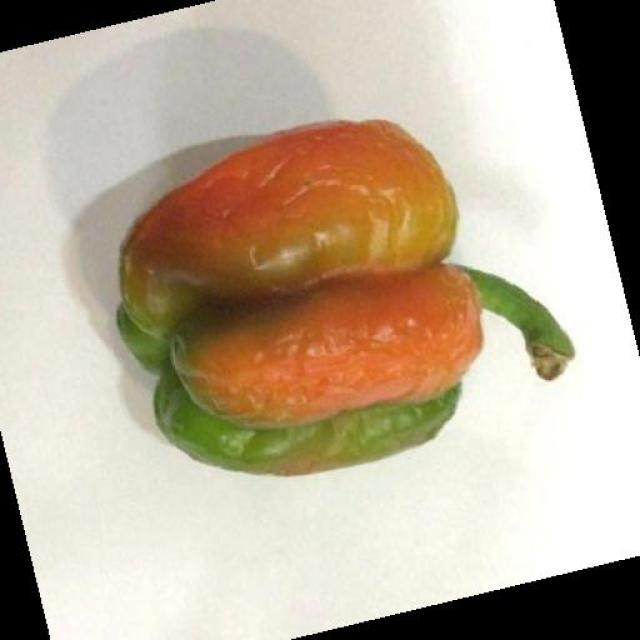Stale_Capsicum: (148, 152, 552, 524)
